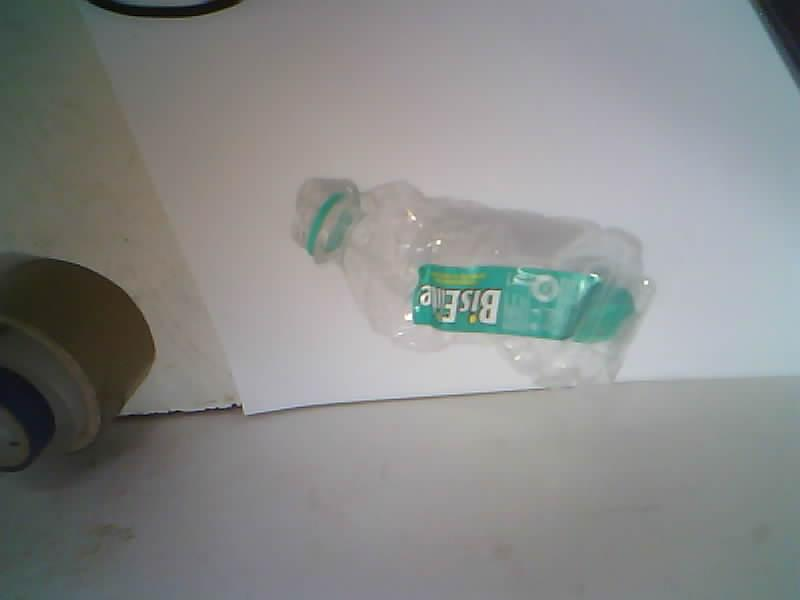non-biodegradable: (293, 179, 651, 385)
